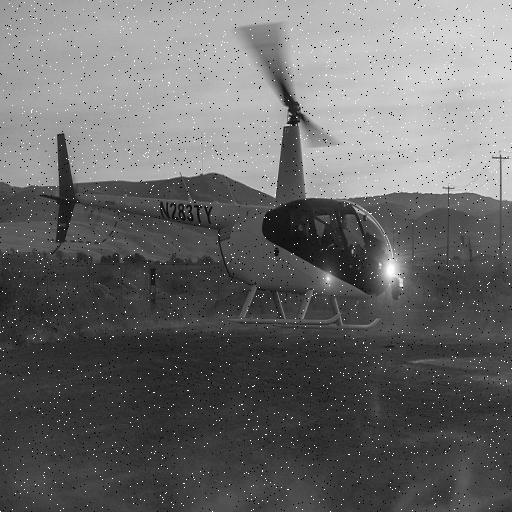helicopter: (53, 20, 404, 341)
